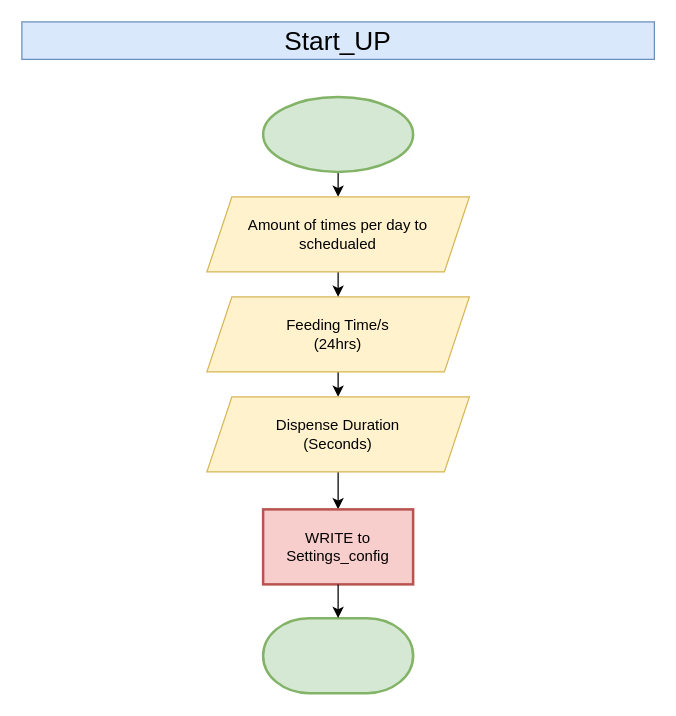
Some shapes in this 676 by 716 pixel diagram are drawn without their labels. Each missing label, with the centre of its shape:
END: (337,655)
Start: (337,133)
